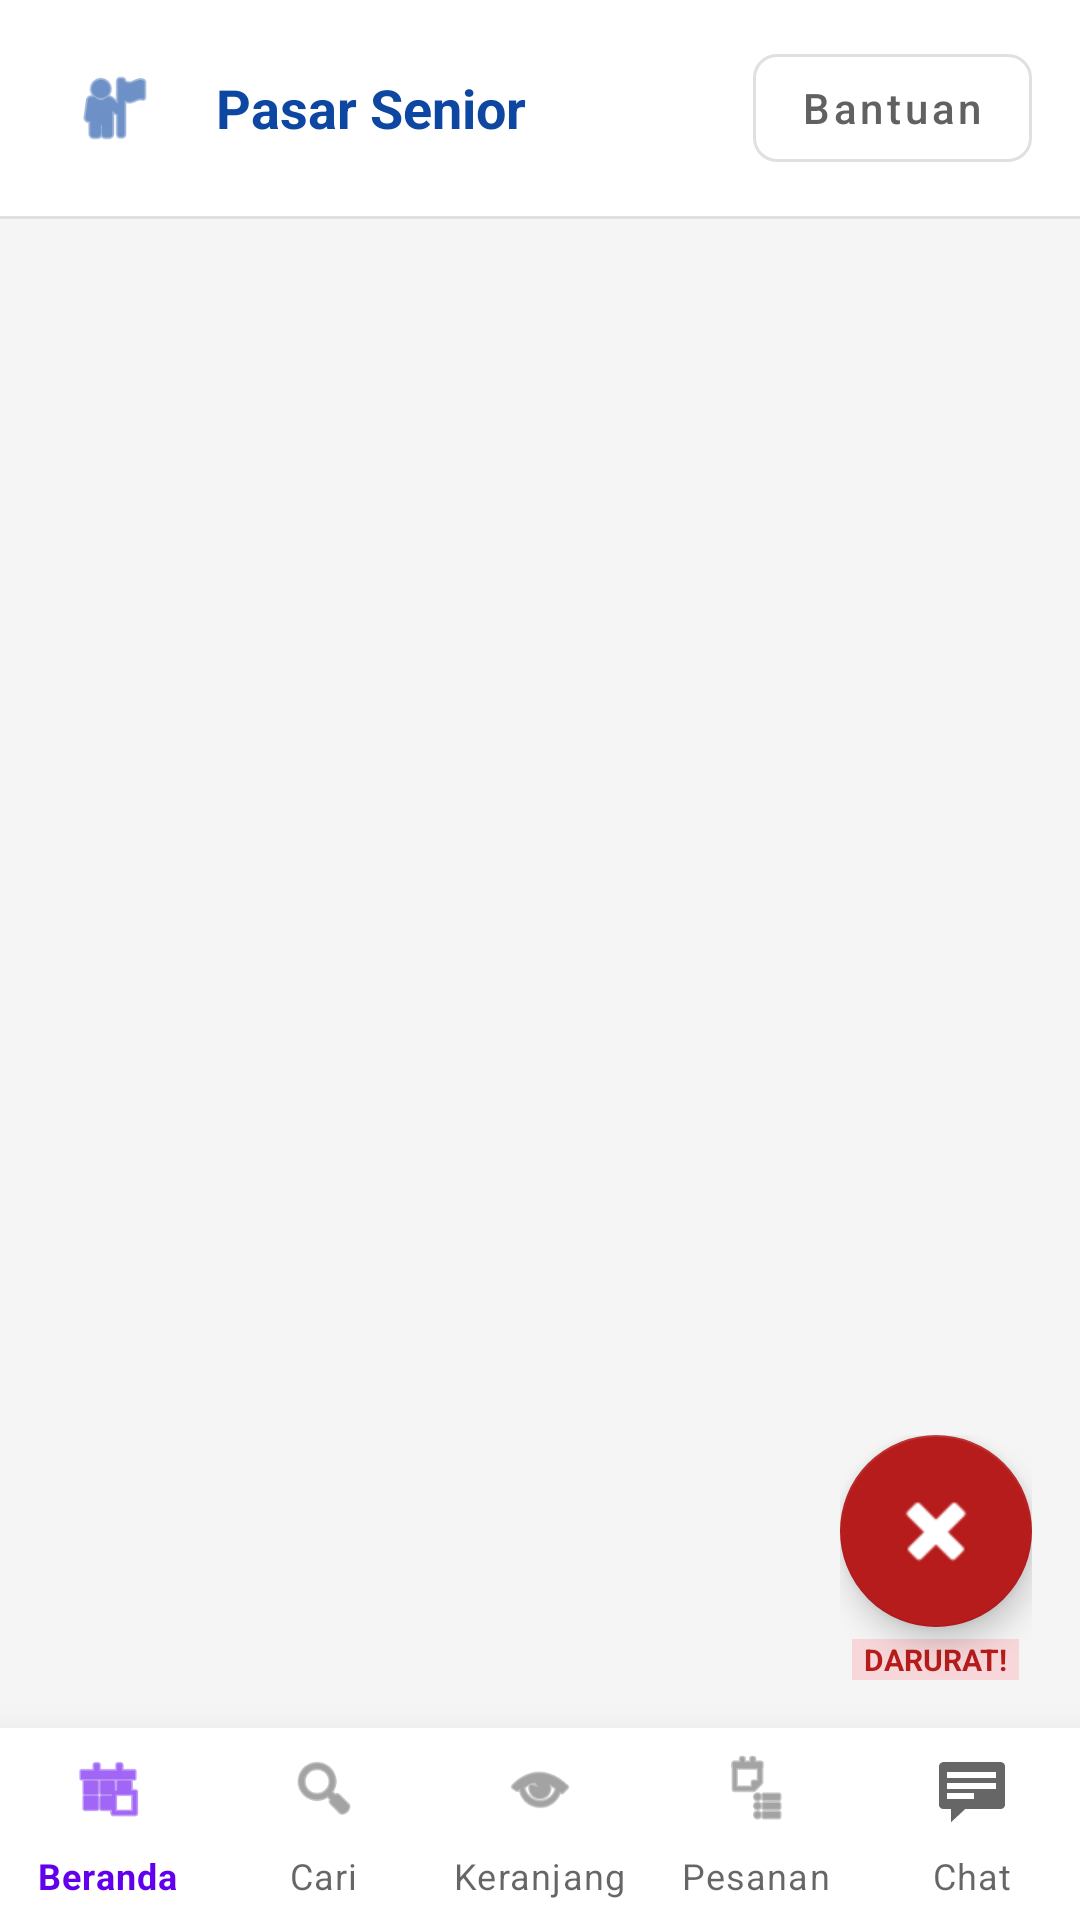

Where icons sit on this 1080px x 1920px app screen, as (x1, y1, x2, y2):
delete: (840, 1435, 1032, 1627)
